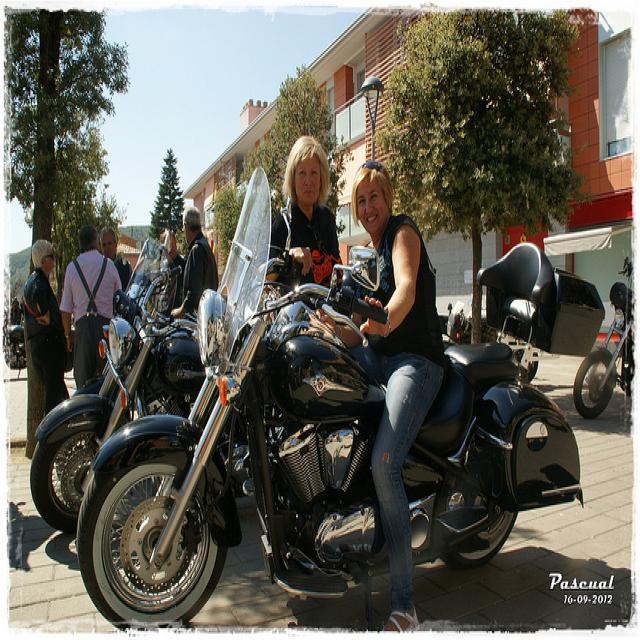motor: (76, 166, 605, 634), (27, 232, 255, 532), (575, 280, 634, 419)
